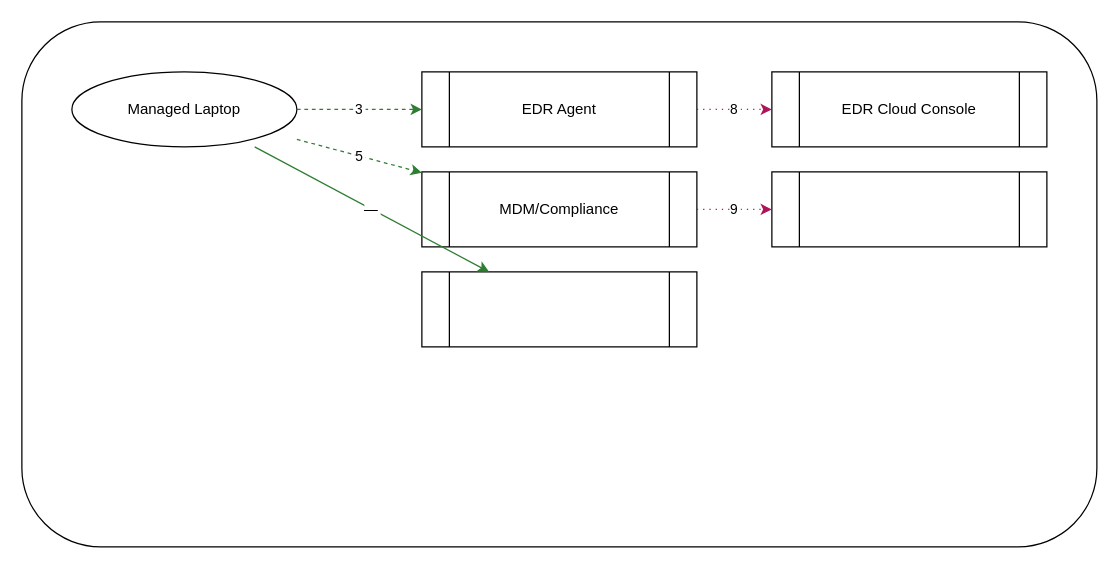
Some shapes in this 1119 by 569 pixel diagram are drawn without their labels. The centre of each missing label's shape, as x and y in pixels:
Full‑Disk Encryption: (559,309)
Remote Wipe/Lock: (909,209)
